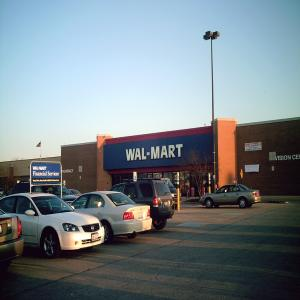Vehicle-registration-plate: (92, 233, 100, 243)
